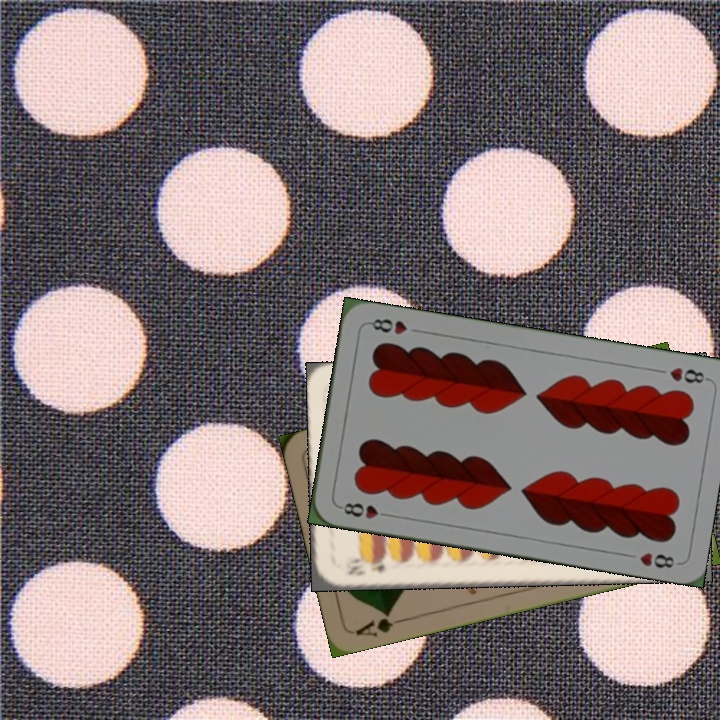E10: (342, 554, 387, 579)
GA: (351, 607, 410, 639)
H8: (335, 498, 394, 522), (665, 363, 710, 386)
